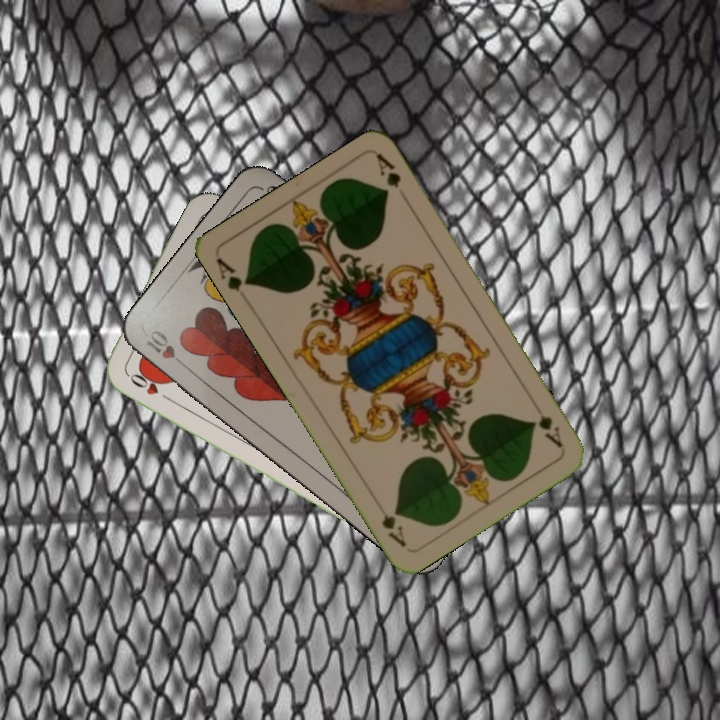GA: (528, 398, 565, 451), (212, 254, 255, 295)
H10: (142, 325, 192, 372)
HO: (123, 369, 176, 406)
